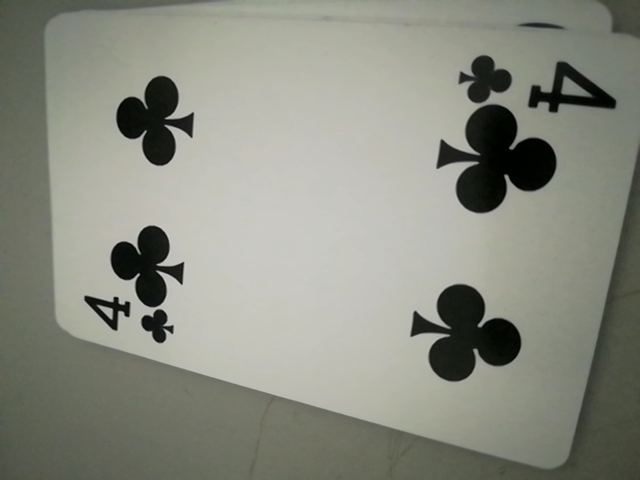mh 4: (456, 38, 611, 116), (75, 294, 183, 350)
